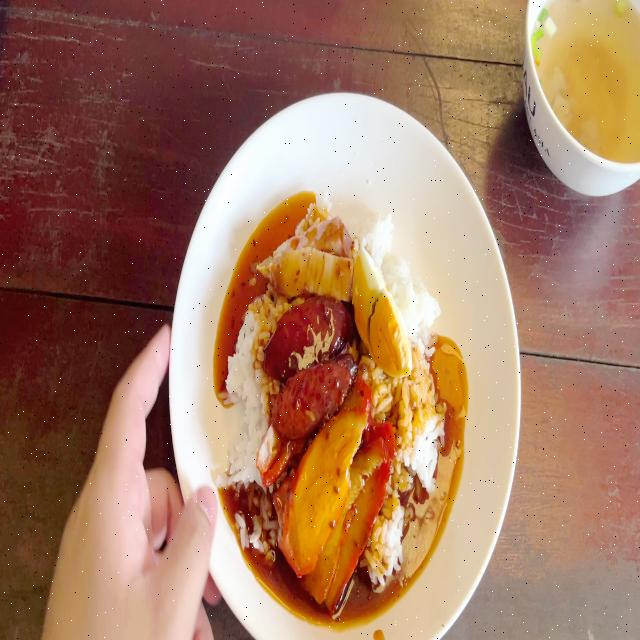boiled_egg: (356, 253, 410, 374)
chainese_sausage: (264, 291, 349, 420), (262, 289, 353, 360), (270, 359, 358, 421)
crispy_pork: (264, 224, 352, 292)
red_pork: (283, 386, 388, 592), (290, 390, 371, 542), (323, 436, 386, 584)
red_pork_and_crispy_pork: (220, 193, 443, 595)
rice: (223, 308, 266, 484), (377, 206, 432, 318)
